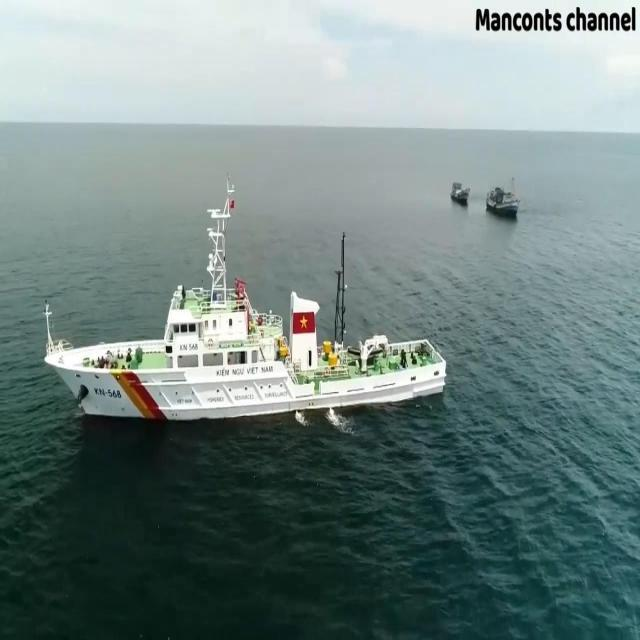Ship: (44, 207, 447, 418), (486, 181, 521, 217), (453, 175, 472, 209)
